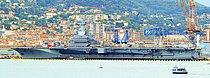MIL_Ship: (10, 26, 202, 61)
